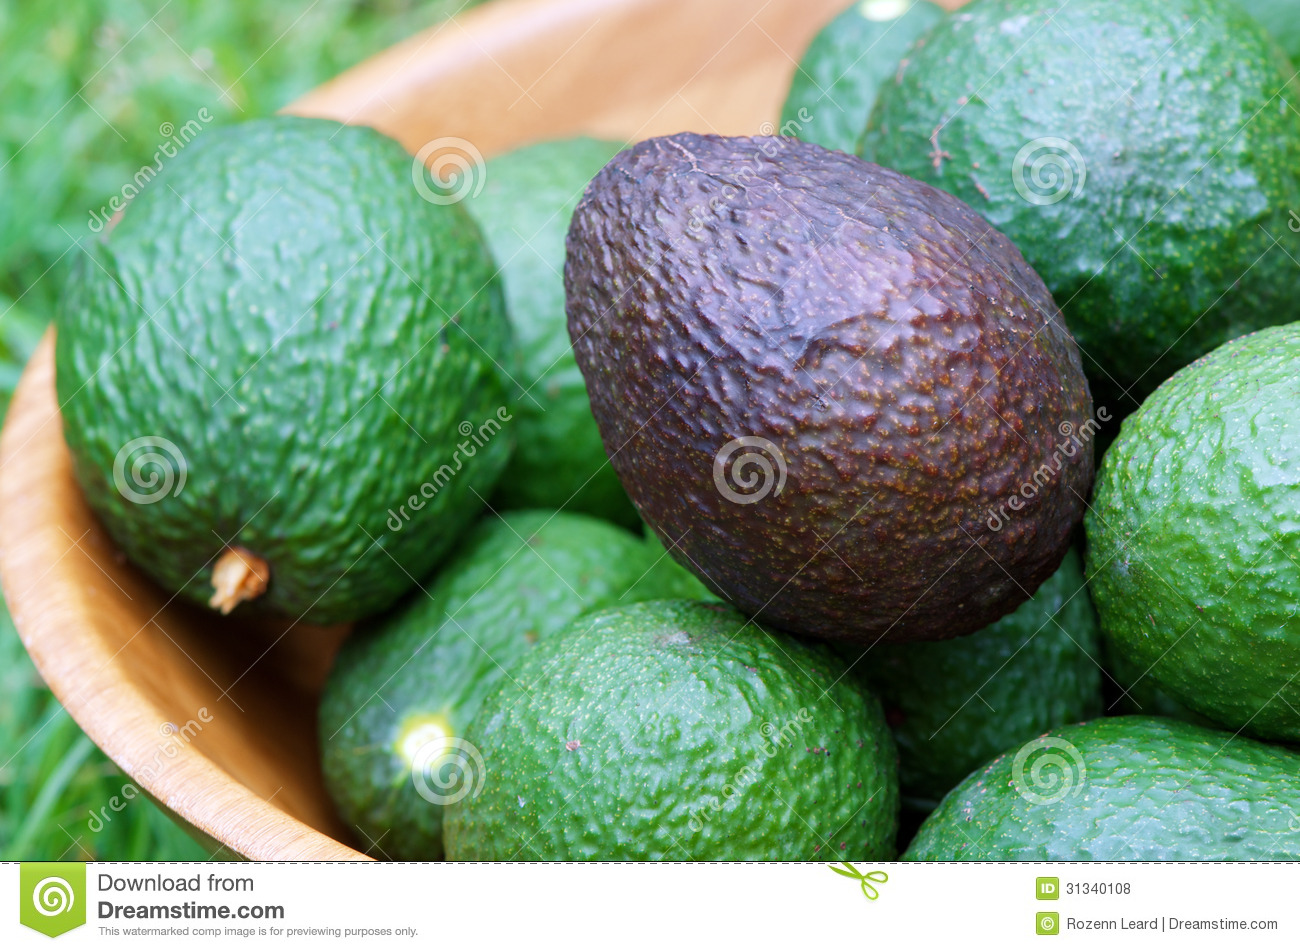fit_avocado: (530, 132, 1112, 616)
unfit_avocado: (53, 87, 527, 634), (320, 517, 675, 860)
